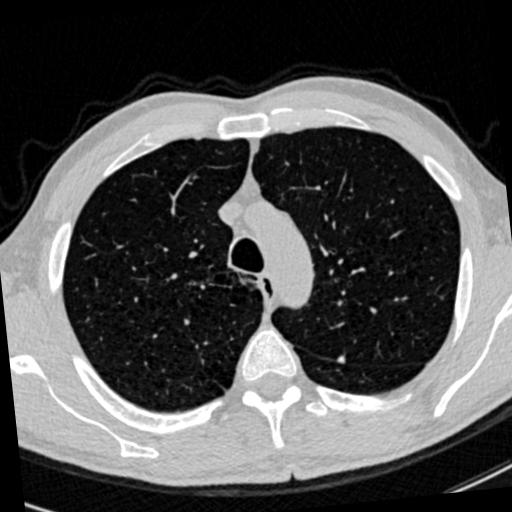nodule: (335, 353, 349, 367)
